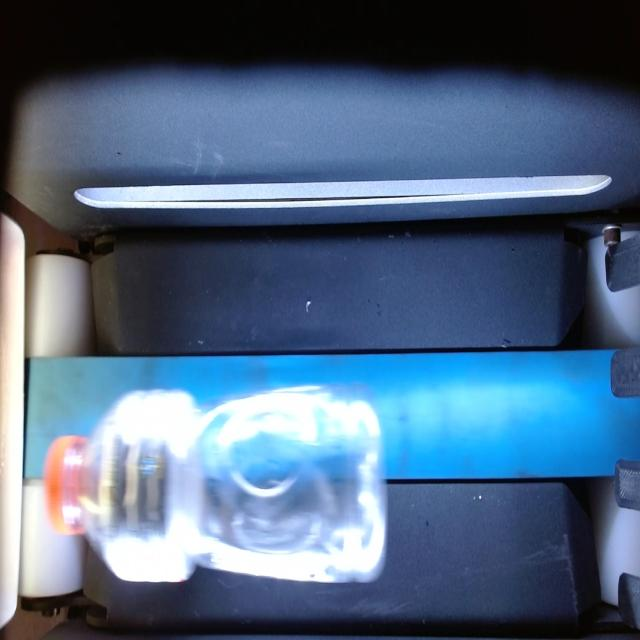bottom: (199, 387, 386, 582)
label: (102, 391, 195, 582)
neck: (44, 436, 88, 536)
